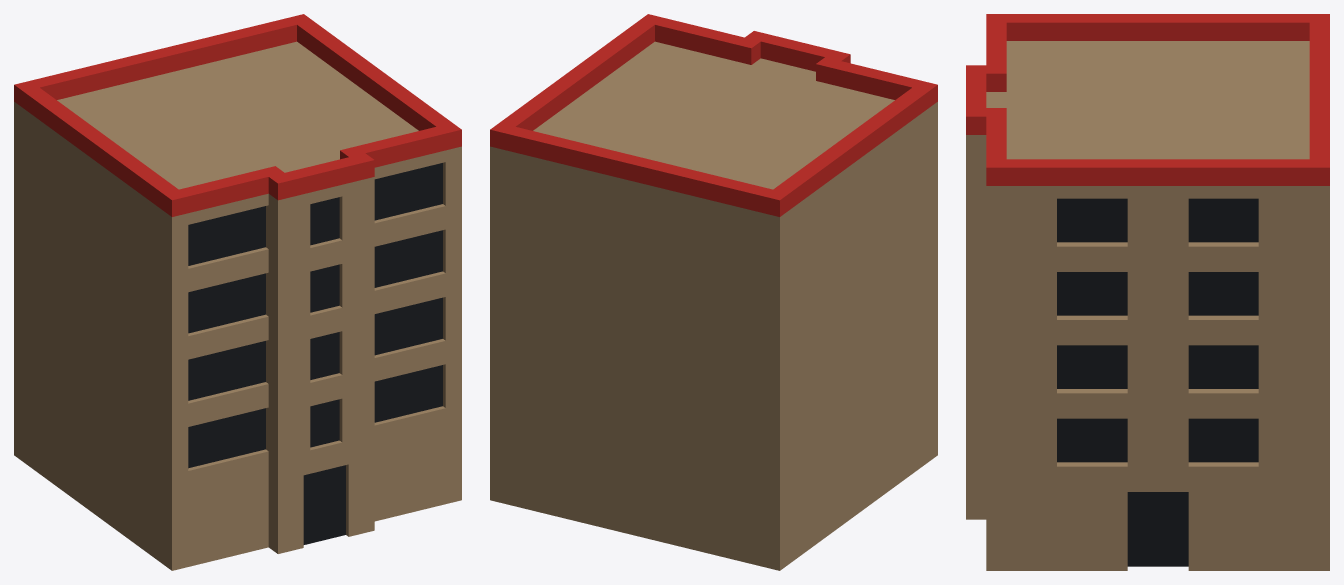
Rendered from Building-2.obj.
3 views of the same model, side by side, from view 1: azimuth 30°, elevation 25°; view 2: azimuth 150°, elevation 25°; view 3: azimuth 270°, elevation 25° (orthographic). The views are drawn at different scales.
Visible parts, largest first — view 1: Cube; view 2: Cube; view 3: Cube.
Part boxes in pixels (<box>): Cube: <box>14,14,461,570</box>; Cube: <box>490,14,937,570</box>; Cube: <box>966,14,1329,570</box>.
Size of the model in its own units: 18 by 22 by 18.
